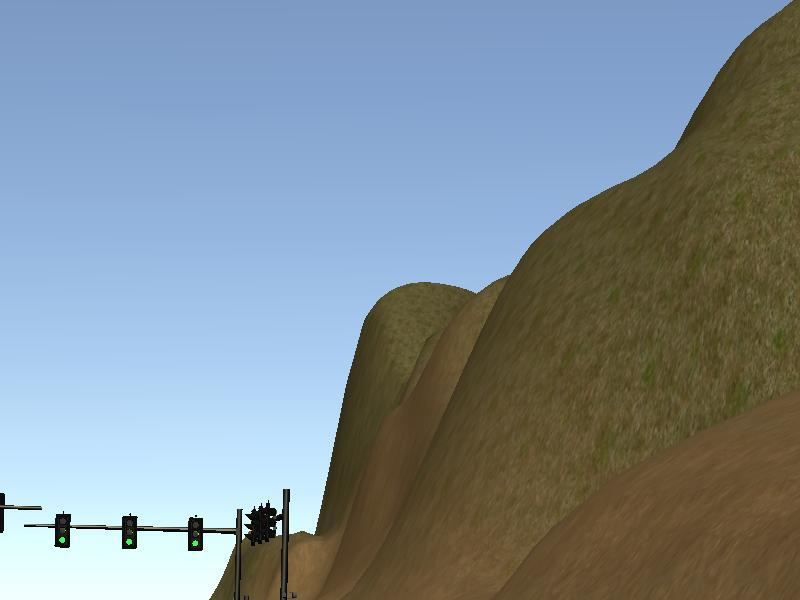Green: (54, 513, 71, 548), (187, 518, 204, 553), (121, 515, 138, 550)
